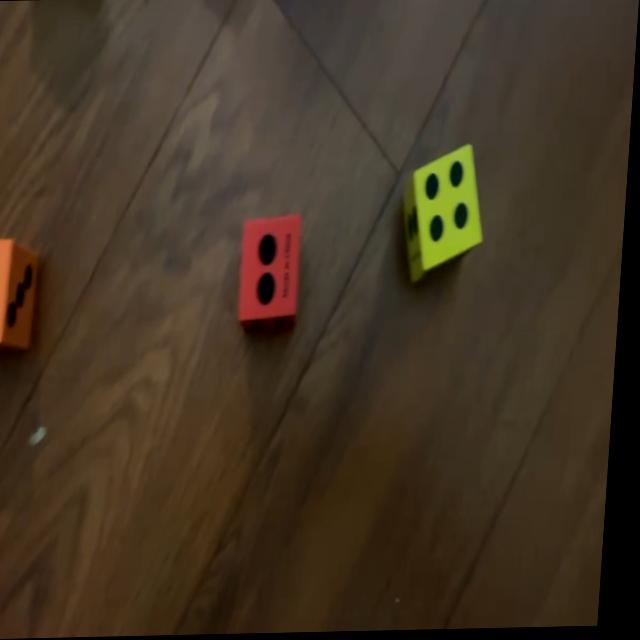red_block: (242, 215, 307, 322)
